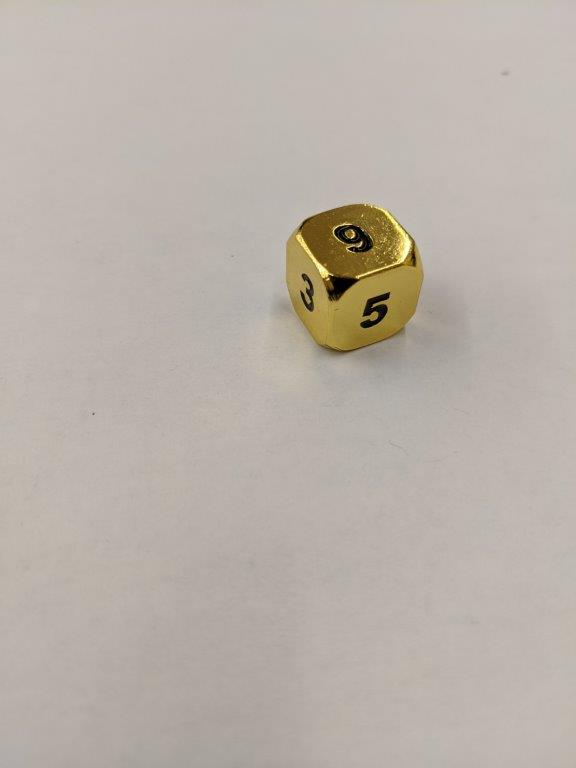d6-6: (283, 201, 421, 356)
